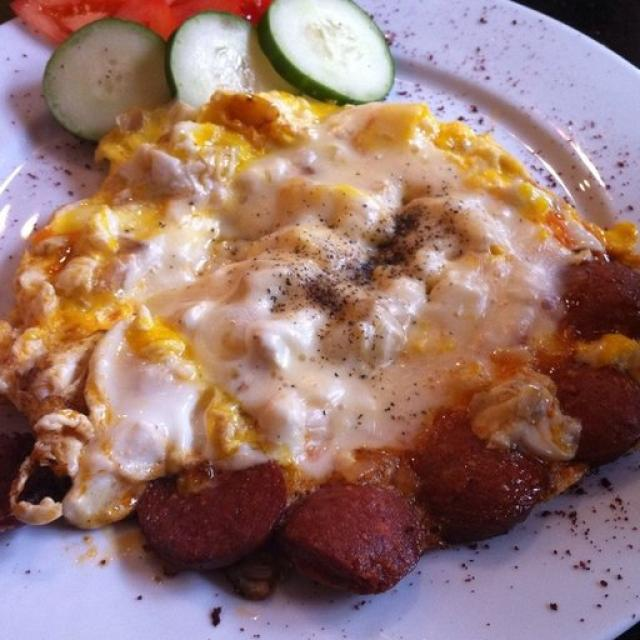omelette: (10, 79, 605, 487)
